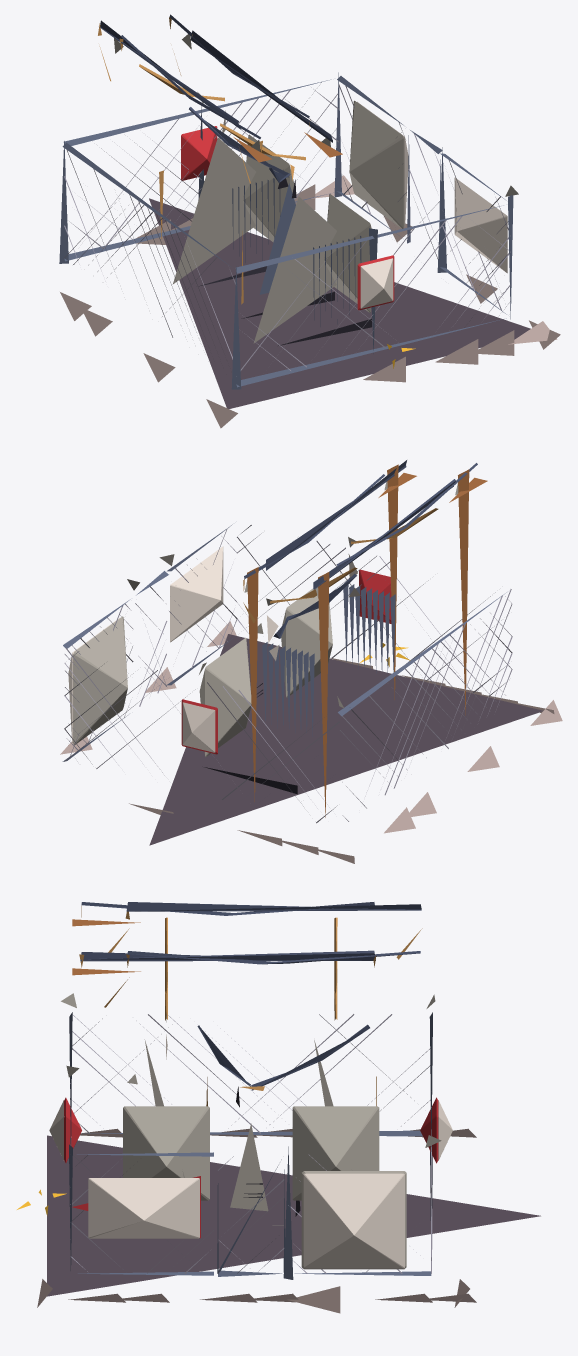
The picture shows the model from 3 angles, top to bottom: view 1: azimuth 30°, elevation 25°; view 2: azimuth 150°, elevation 25°; view 3: azimuth 270°, elevation 25°; orthographic projection. The views are drawn at different scales.
Parts seen in each view (by area): view 1: static_pal_asphalt, static_pal_silver, static_pal_denimLight, static_pal_sidewalk, static_pal_denimStitch, static_pal_picketWhite, static_pal_denim, static_pal_survivorRed, static_pal_brass, static_pal_uiDark; view 2: static_pal_asphalt, static_pal_silver, static_pal_denimLight, static_pal_woodWarm, static_pal_denimStitch, static_pal_picketWhite, static_pal_sidewalk, static_pal_denim, static_pal_survivorRed, static_pal_brass, static_pal_uiDark; view 3: static_pal_asphalt, static_pal_picketWhite, static_pal_silver, static_pal_denim, static_pal_denimLight, static_pal_sidewalk, static_pal_denimStitch, static_pal_survivorRed, static_pal_brass, gate_pal_denimLight, static_pal_woodWarm.
Boxes of the visible parts, <box> form: static_pal_asphalt: <box>149,198,530,408</box>; static_pal_silver: <box>114,34,518,343</box>; static_pal_denimLight: <box>59,72,513,389</box>; static_pal_sidewalk: <box>60,175,560,428</box>; static_pal_denimStitch: <box>64,82,510,376</box>; static_pal_picketWhite: <box>222,102,507,308</box>; static_pal_denim: <box>99,14,332,182</box>; static_pal_survivorRed: <box>181,126,394,310</box>; static_pal_brass: <box>98,17,310,304</box>; static_pal_uiDark: <box>198,170,371,345</box>; static_pal_asphalt: <box>149,634,543,845</box>; static_pal_silver: <box>73,481,458,756</box>; static_pal_denimLight: <box>62,524,506,761</box>; static_pal_woodWarm: <box>247,464,487,817</box>; static_pal_denimStitch: <box>64,525,512,823</box>; static_pal_picketWhite: <box>68,546,360,752</box>; static_pal_sidewalk: <box>60,621,562,863</box>; static_pal_denim: <box>244,460,477,638</box>; static_pal_survivorRed: <box>181,569,391,754</box>; static_pal_brass: <box>243,508,438,623</box>; static_pal_uiDark: <box>204,683,297,794</box>; static_pal_asphalt: <box>47,1135,540,1296</box>; static_pal_picketWhite: <box>49,1034,452,1268</box>; static_pal_silver: <box>61,993,441,1269</box>; static_pal_denim: <box>80,902,421,1090</box>; static_pal_denimLight: <box>69,1012,432,1279</box>; static_pal_sidewalk: <box>37,1128,476,1313</box>; static_pal_denimStitch: <box>70,1014,432,1273</box>; static_pal_survivorRed: <box>64,1097,438,1238</box>; static_pal_brass: <box>79,906,422,1106</box>; gate_pal_denimLight: <box>217,1159,284,1276</box>; static_pal_woodWarm: <box>72,919,140,975</box>.
Bounding box in the file's own units: 6.44 × 4.74 × 8.12.
